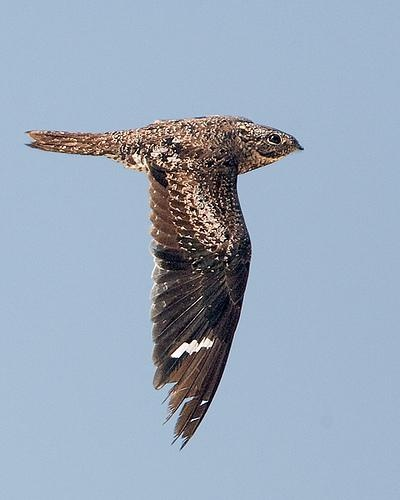bird: (23, 112, 303, 447)
